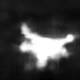plane: (15, 20, 78, 72)
